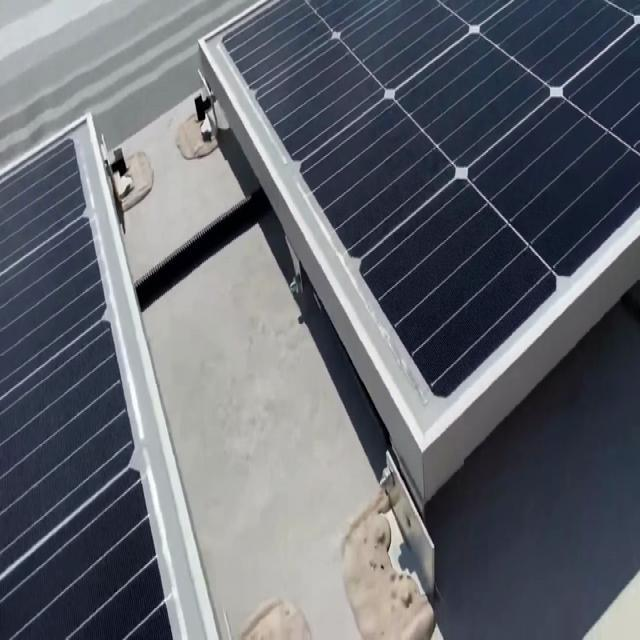Normal Solar Panel: (200, 0, 640, 449), (0, 111, 223, 640)
